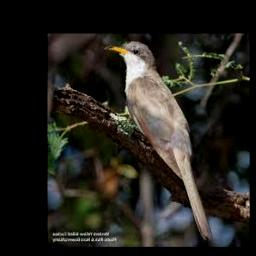Cuckoo: (105, 42, 213, 240)
